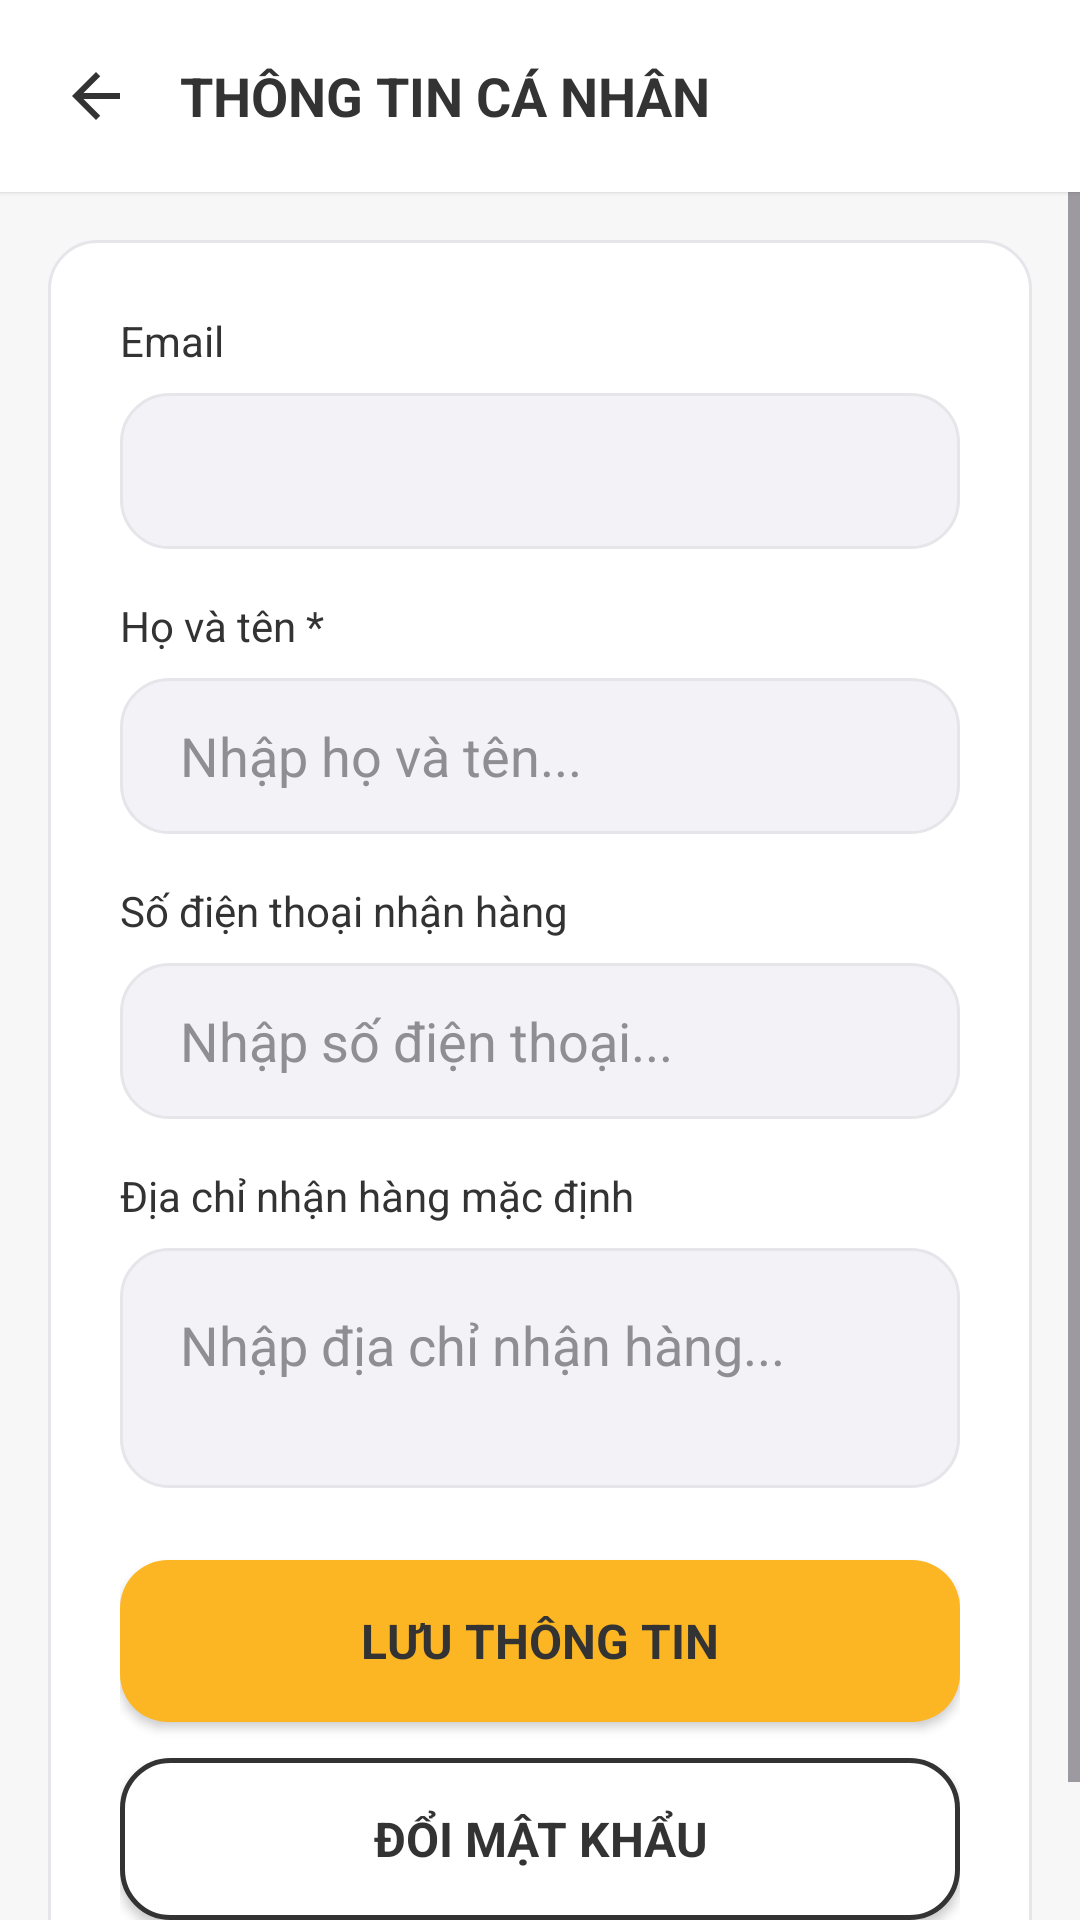

Locate icon controls on the screen. Image size 1080 × 1920, boxes as (x1, y1, x2, y2).
arrow back: (72, 72, 120, 120)
